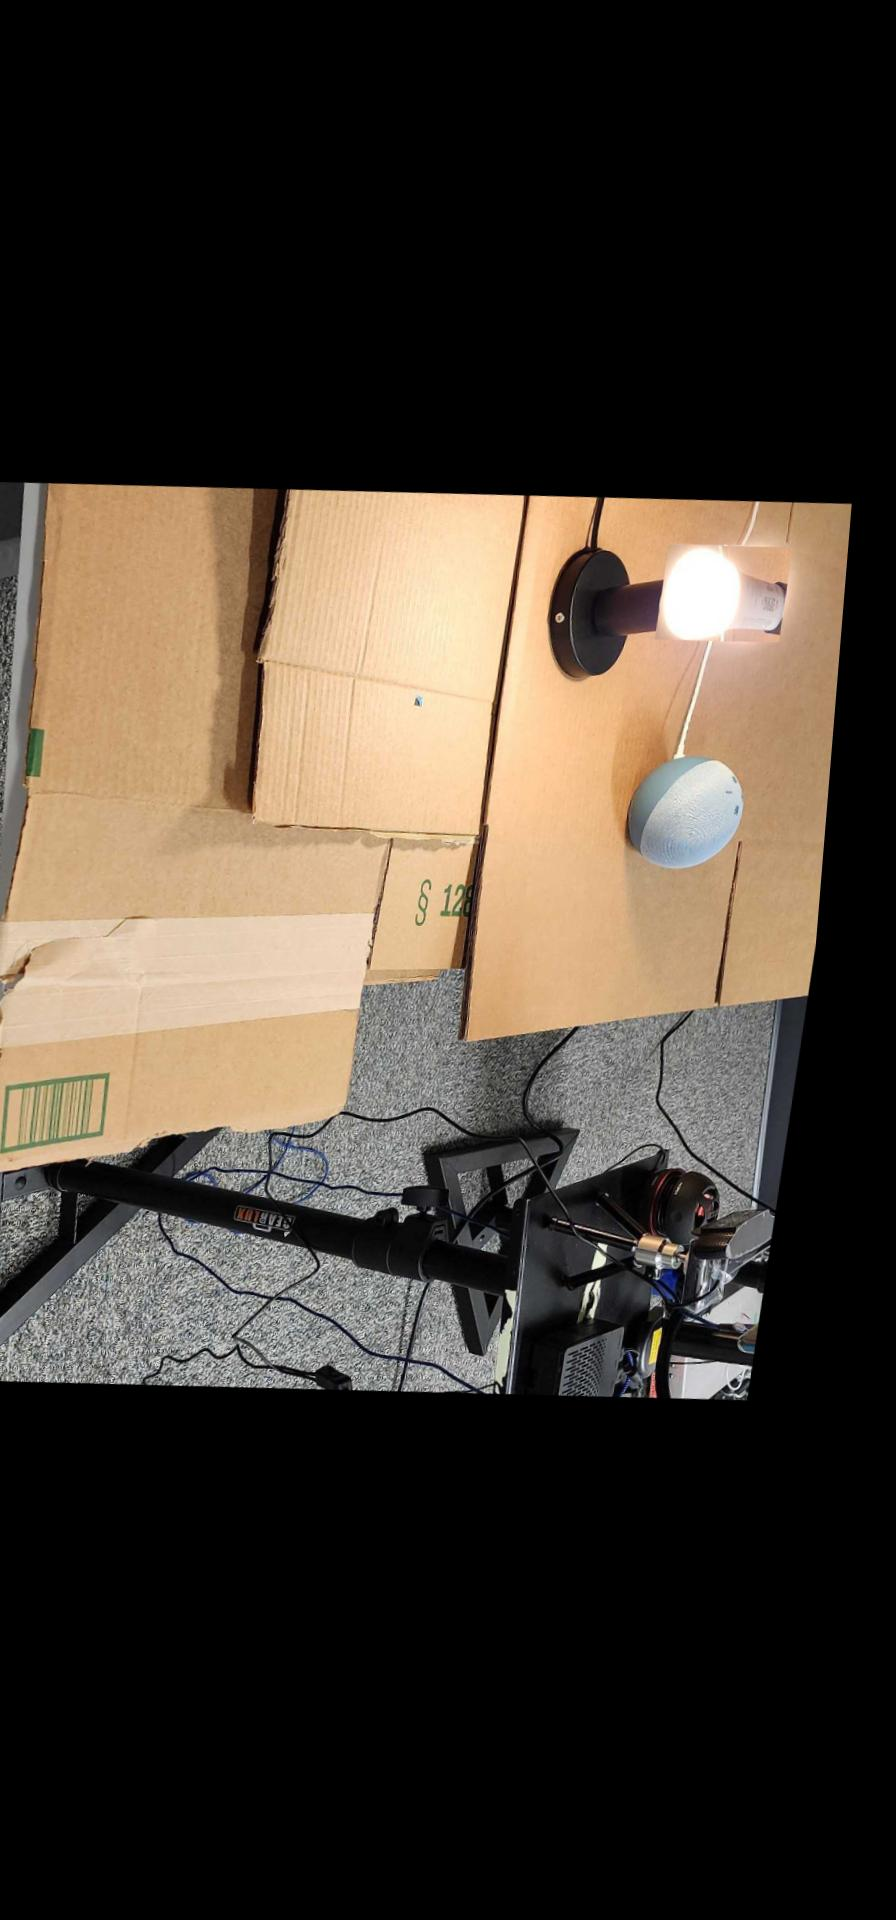TubeLight: (666, 544, 804, 654)
